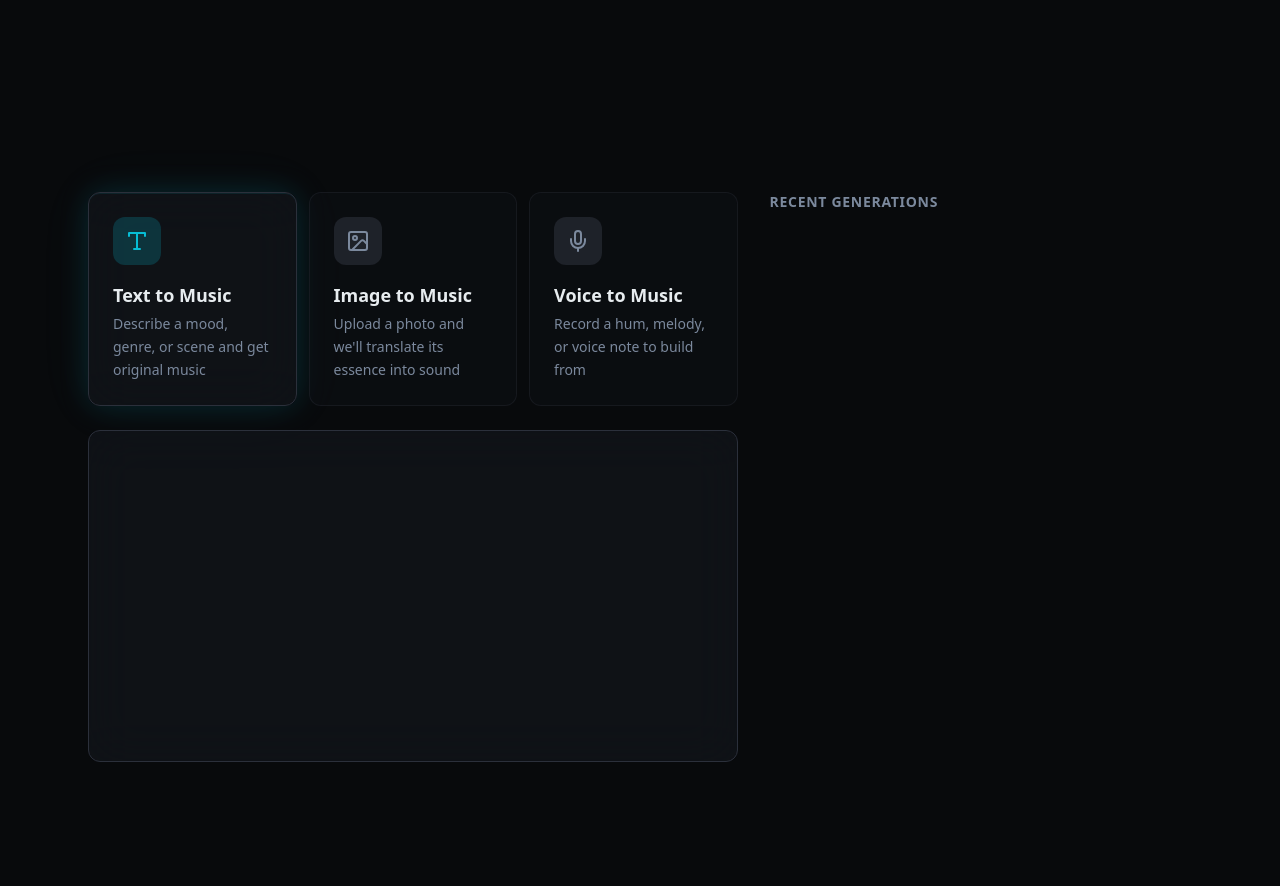
Scenario: GenerationStudio › switches to image input when Image to Music is clicked
Click the heading "Image to Music" at {"x": 413, "y": 295}, box [334, 281, 492, 309]
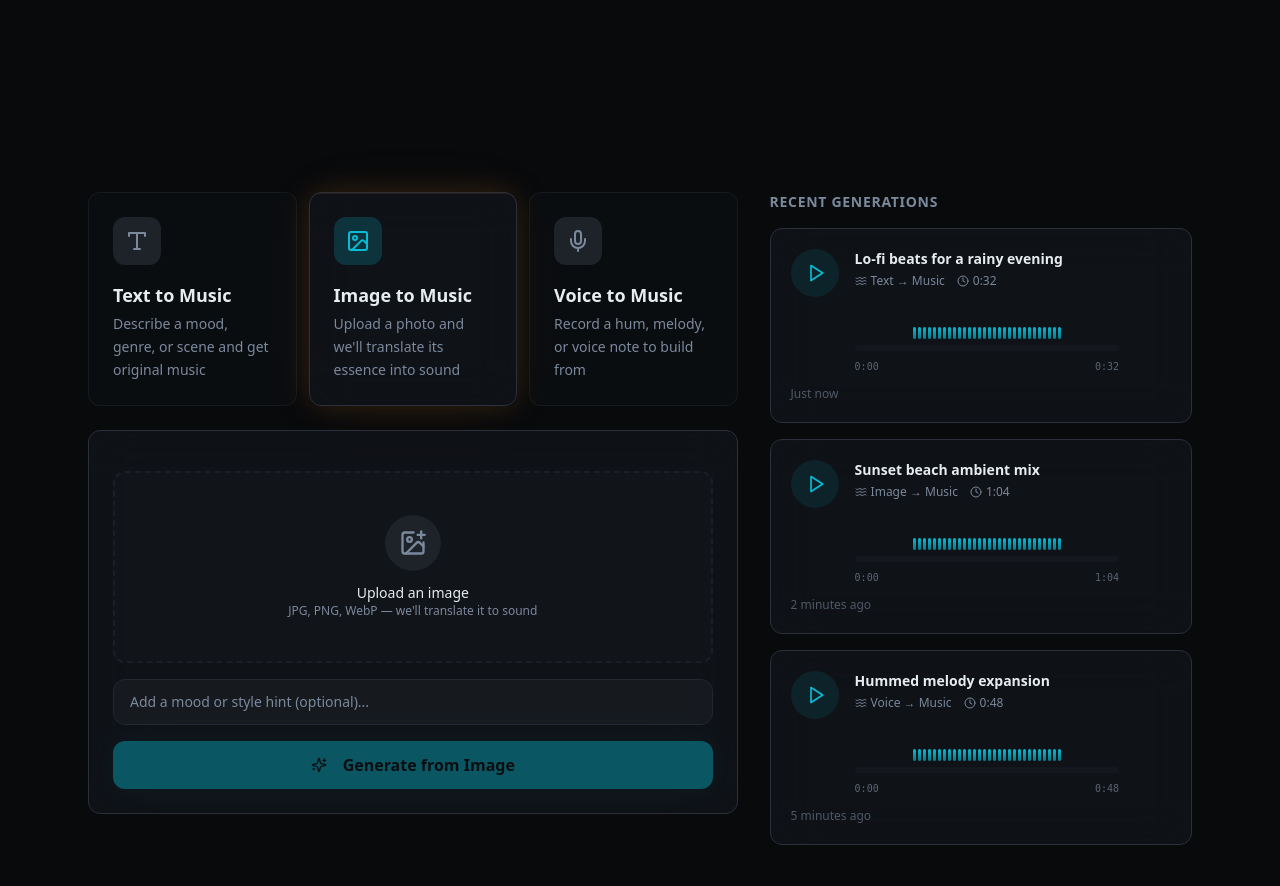
Result: the text "Upload an image" is shown at [357, 583, 469, 602]
